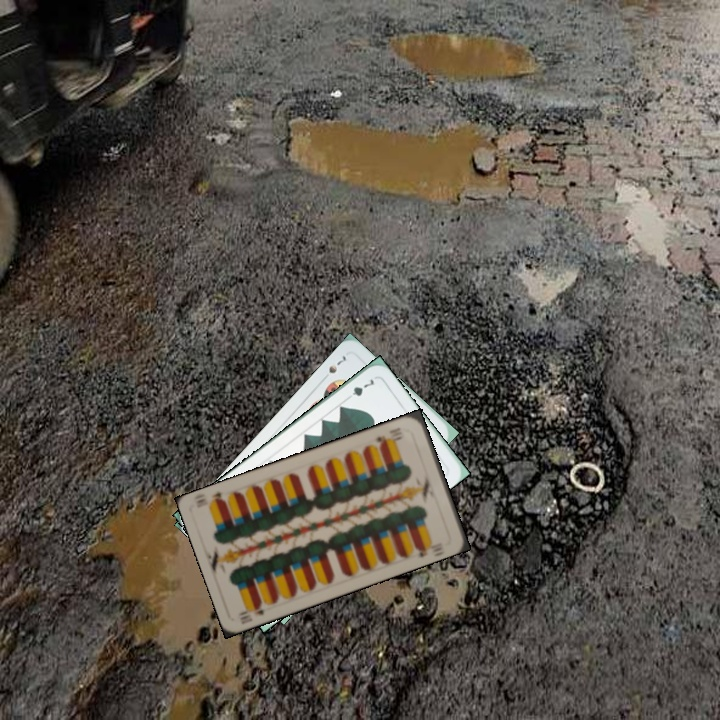E10: (234, 599, 267, 627), (371, 423, 404, 449)
G7: (342, 375, 377, 403)
S7: (318, 351, 349, 383)
